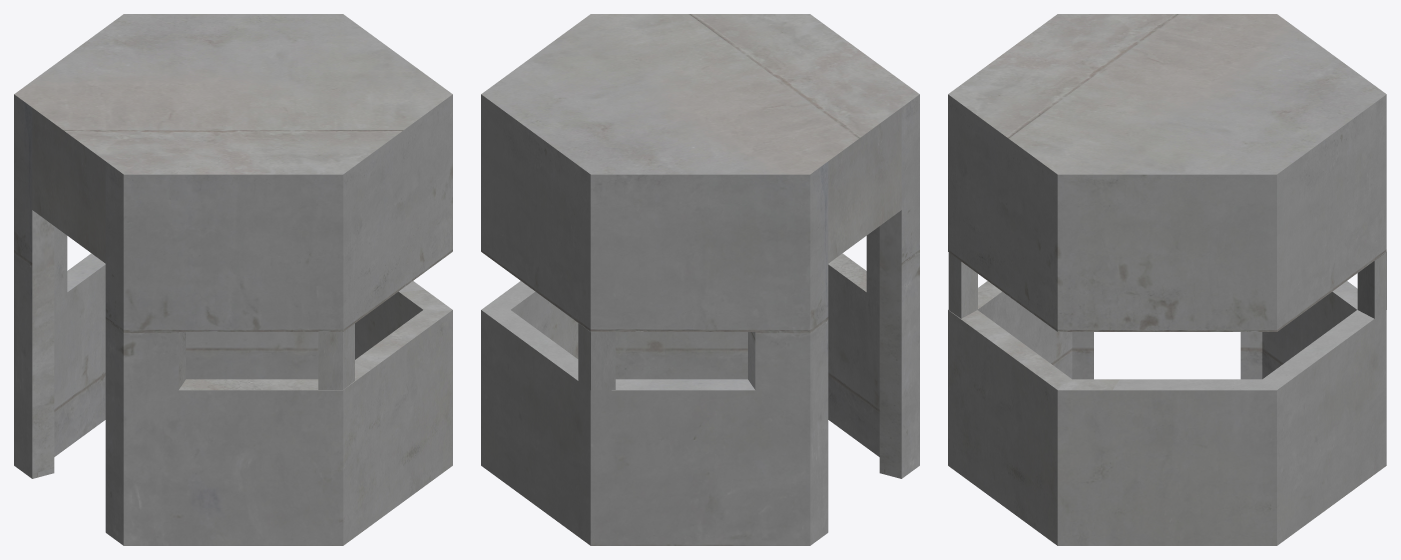
The model's file is PillBox.fbx.
3 views of the same model, side by side, from view 1: azimuth 30°, elevation 25°; view 2: azimuth 150°, elevation 25°; view 3: azimuth 270°, elevation 25° (orthographic).
Visible parts, largest first — view 1: Cylinder; view 2: Cylinder; view 3: Cylinder.
Part boxes in pixels (bbox=[...]): Cylinder: bbox=[14, 14, 452, 545]; Cylinder: bbox=[481, 14, 919, 545]; Cylinder: bbox=[948, 14, 1386, 545].
Size of the model in its own units: 260 by 280 by 300.
